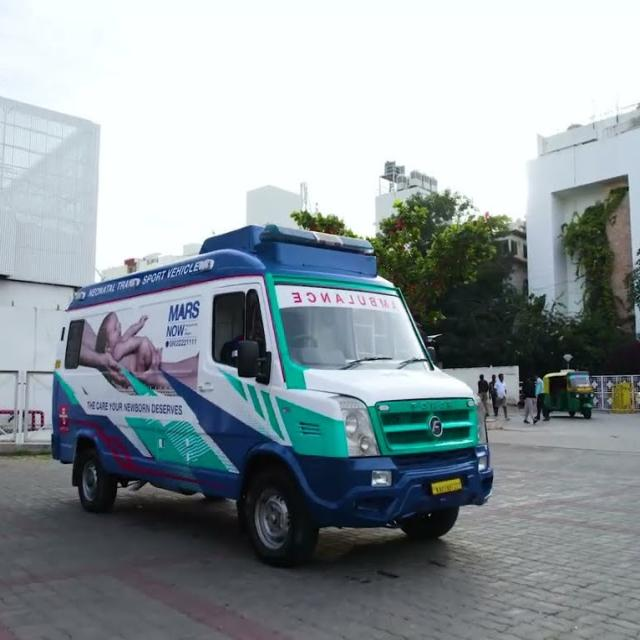emergency: (51, 226, 494, 565)
